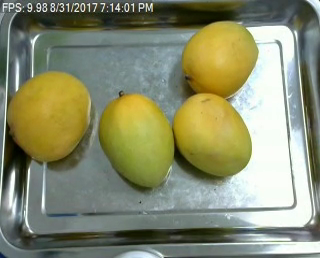Mango: (7, 68, 92, 162), (97, 91, 175, 187), (173, 92, 253, 177), (180, 20, 262, 99)
